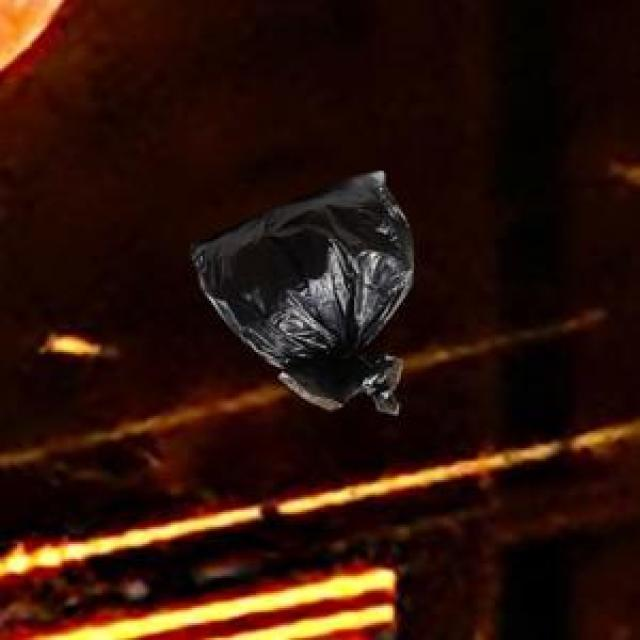waste: (191, 171, 414, 414)
